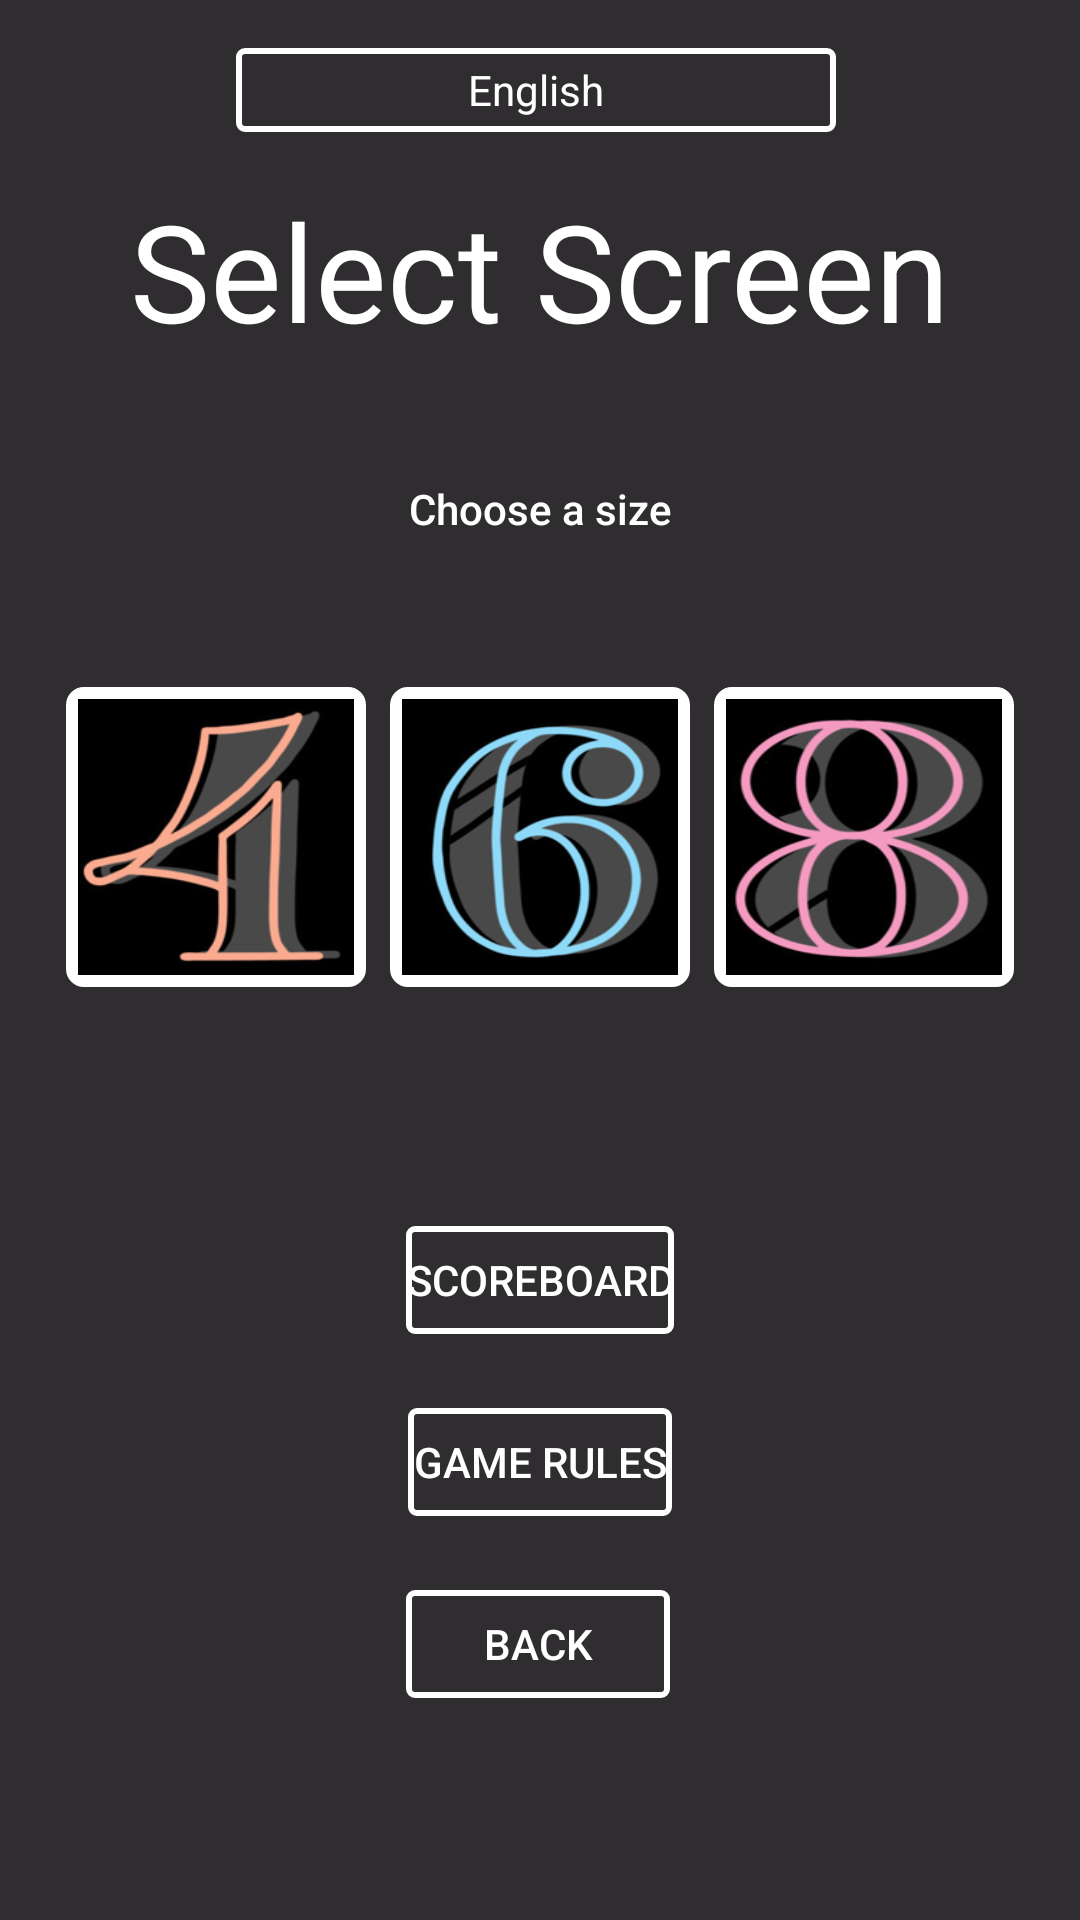

Icons on this 1080×1920 Android screen, each with the point to tap as point (x, y):
Size 4x4: point (216, 837)
Size 6x6: point (540, 837)
Size 8x8: point (864, 837)
